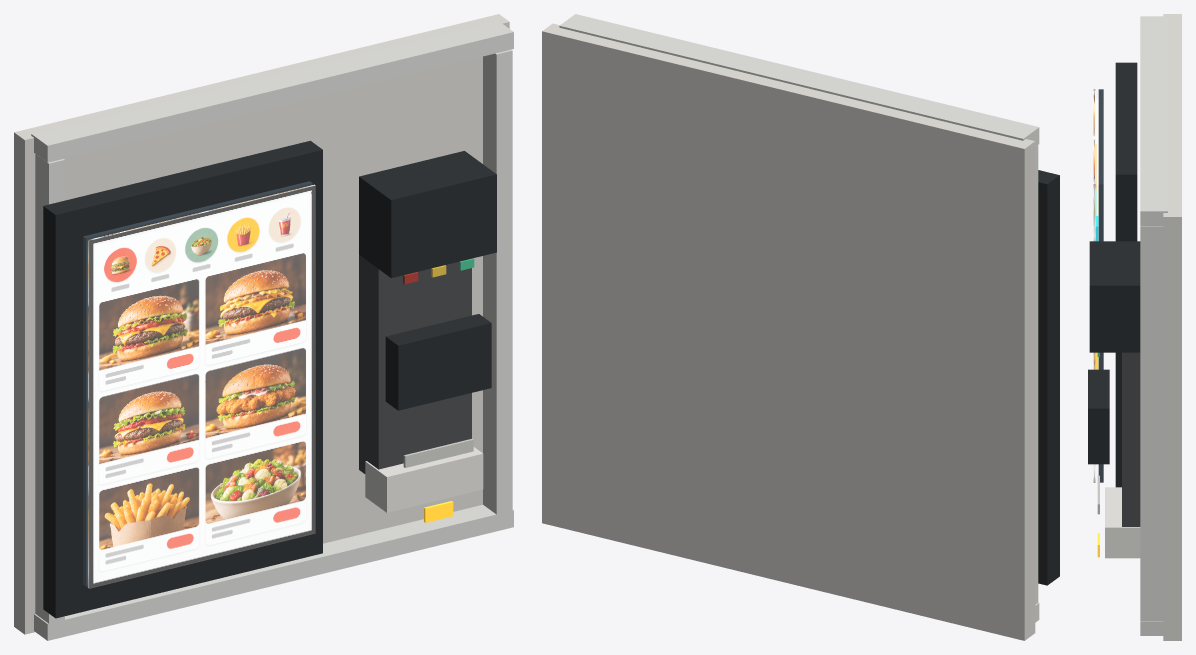
File: totem-embutido-v7.glb
The picture shows the model from 3 angles, left to right: view 1: azimuth 30°, elevation 25°; view 2: azimuth 150°, elevation 25°; view 3: azimuth 270°, elevation 25°; orthographic projection. The views are drawn at different scales.
Parts seen in each view (by area): view 1: interface_realista, painel_parede_sutil, moldura_tela, acrilico_topo, torre_direito, painel_superior_direito, acrilico_direita, acrilico_base, moldura_impressora_direito, acrilico_esquerda, rodape_lateral_direito, tela_touch (+1 smaller); view 2: painel_parede_sutil, moldura_tela, acrilico_topo, acrilico_esquerda; view 3: painel_parede_sutil, acrilico_direita, acrilico_topo, painel_superior_direito, moldura_tela, torre_direito, moldura_impressora_direito, rodape_lateral_direito, tela_touch, interface_realista, acrilico_base, cabecalho_app.
Boxes of the visible parts, x1=… form: interface_realista: x1=87, y1=184, x2=315, y2=588; painel_parede_sutil: x1=14, y1=14, x2=509, y2=634; moldura_tela: x1=43, y1=140, x2=322, y2=618; acrilico_topo: x1=31, y1=20, x2=513, y2=162; torre_direito: x1=359, y1=255, x2=471, y2=473; painel_superior_direito: x1=359, y1=151, x2=496, y2=278; acrilico_direita: x1=483, y1=49, x2=512, y2=515; acrilico_base: x1=34, y1=505, x2=513, y2=640; moldura_impressora_direito: x1=385, y1=314, x2=491, y2=410; acrilico_esquerda: x1=35, y1=154, x2=64, y2=623; rodape_lateral_direito: x1=365, y1=447, x2=483, y2=512; tela_touch: x1=83, y1=181, x2=312, y2=586; painel_parede_sutil: x1=542, y1=23, x2=1035, y2=640; moldura_tela: x1=1038, y1=170, x2=1059, y2=585; acrilico_topo: x1=559, y1=14, x2=1039, y2=146; acrilico_esquerda: x1=1035, y1=145, x2=1038, y2=604; painel_parede_sutil: x1=1163, y1=14, x2=1181, y2=640; acrilico_direita: x1=1140, y1=226, x2=1163, y2=620; acrilico_topo: x1=1140, y1=16, x2=1167, y2=225; painel_superior_direito: x1=1089, y1=241, x2=1140, y2=352; moldura_tela: x1=1115, y1=62, x2=1137, y2=487; torre_direito: x1=1122, y1=352, x2=1140, y2=526; moldura_impressora_direito: x1=1088, y1=369, x2=1109, y2=464; rodape_lateral_direito: x1=1105, y1=487, x2=1140, y2=558; tela_touch: x1=1098, y1=89, x2=1103, y2=482; interface_realista: x1=1093, y1=89, x2=1095, y2=482; acrilico_base: x1=1140, y1=621, x2=1163, y2=635; cabecalho_app: x1=1096, y1=99, x2=1098, y2=215.
Size of the model in its own units: 0.78 by 0.763 by 0.1525.
Materials: 26 (1 with a texture image).
